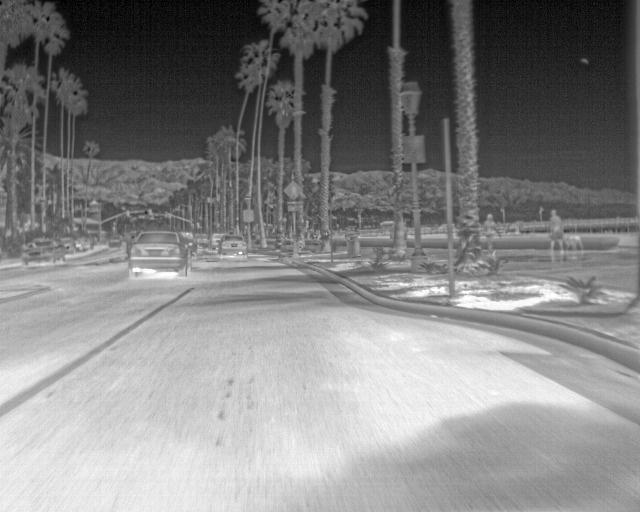bicycle: (127, 228, 190, 274), (19, 236, 65, 267), (216, 234, 248, 255), (57, 236, 76, 254), (192, 232, 209, 249), (107, 235, 123, 249)
empty: (546, 208, 568, 255), (481, 209, 500, 254)
